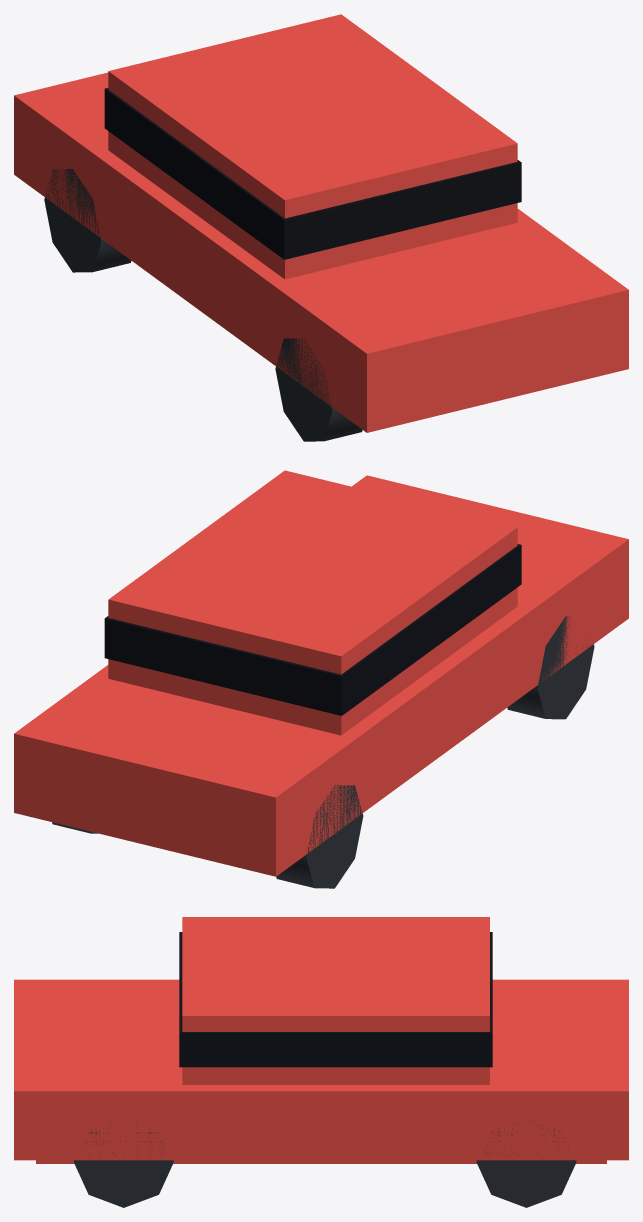
Rendered from car.glb.
3 views of the same model, one above another, from view 1: azimuth 30°, elevation 25°; view 2: azimuth 150°, elevation 25°; view 3: azimuth 270°, elevation 25° (orthographic). The views are drawn at different scales.
Parts seen in each view (by area): view 1: car_chassis, car_cabin, car_nose, car_window_band, wheel_1, wheel_3; view 2: car_chassis, car_cabin, car_window_band, wheel_3, car_nose, wheel_1; view 3: car_chassis, car_cabin, car_window_band, wheel_2, wheel_4, car_skirt.
Part boxes in pixels (x1,y1,x2,y2): car_chassis: (14,72,628,432); car_cabin: (108,14,517,279); car_nose: (285,227,618,349); car_window_band: (104,88,521,259); wheel_1: (275,338,362,441); wheel_3: (44,169,131,272); car_chassis: (14,475,628,876); car_cabin: (108,470,517,735); car_window_band: (104,544,521,715); wheel_3: (276,785,363,888); car_nose: (360,481,617,599); wheel_1: (507,616,594,719); car_chassis: (14,979,628,1160); car_cabin: (182,917,489,1084); car_window_band: (179,932,492,1067); wheel_2: (74,1120,173,1207); wheel_4: (476,1121,576,1207); car_skirt: (36,1160,606,1163).
Size of the model in its own units: 1.8 by 1.4 by 4.2.
